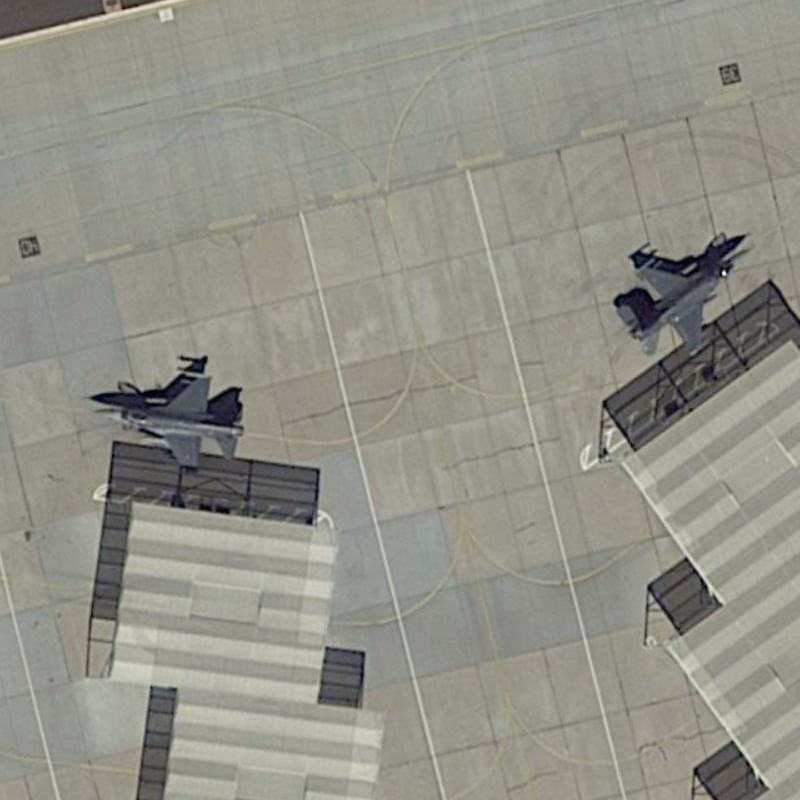A5: (82, 361, 250, 480), (609, 232, 757, 365)
